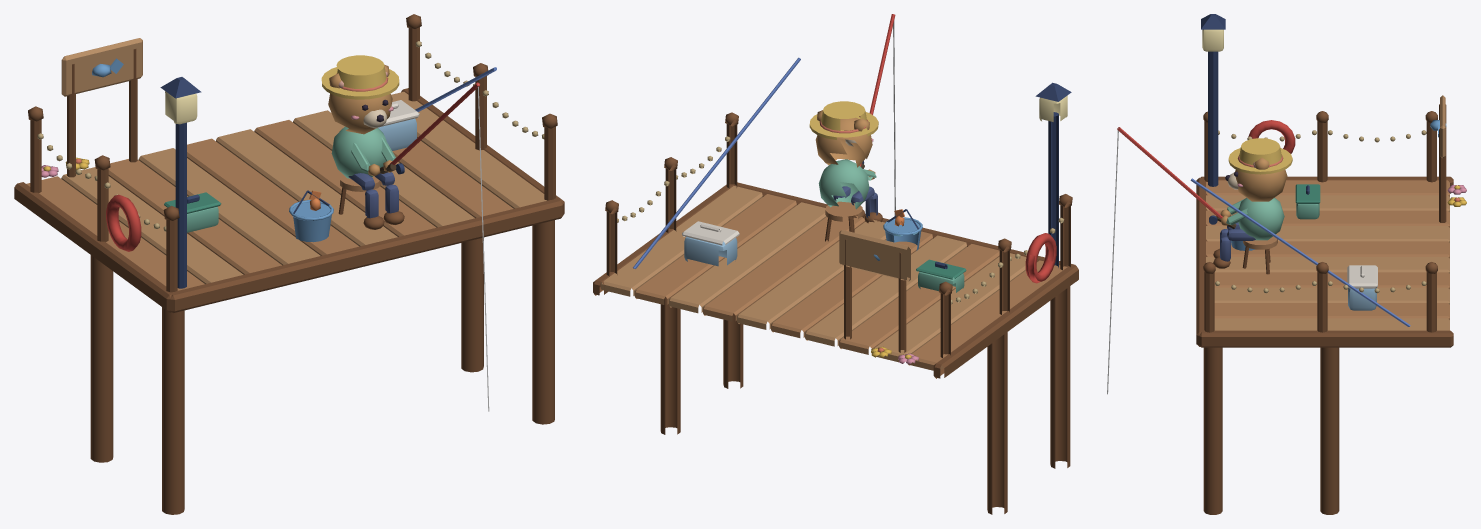
File: ac_fishdeck.glb
3 views of the same model, side by side, from view 1: azimuth 30°, elevation 25°; view 2: azimuth 150°, elevation 25°; view 3: azimuth 270°, elevation 25° (orthographic). The views are drawn at different scales.
Parts seen in each view (by area): view 1: body; view 2: body; view 3: body.
Part boxes in pixels (x1,y1,x2,y2): body: (14,14,564,514); body: (593,14,1078,514); body: (1107,14,1466,514).
Bounding box in the file's own units: 5.22 × 5.32 × 4.94.
